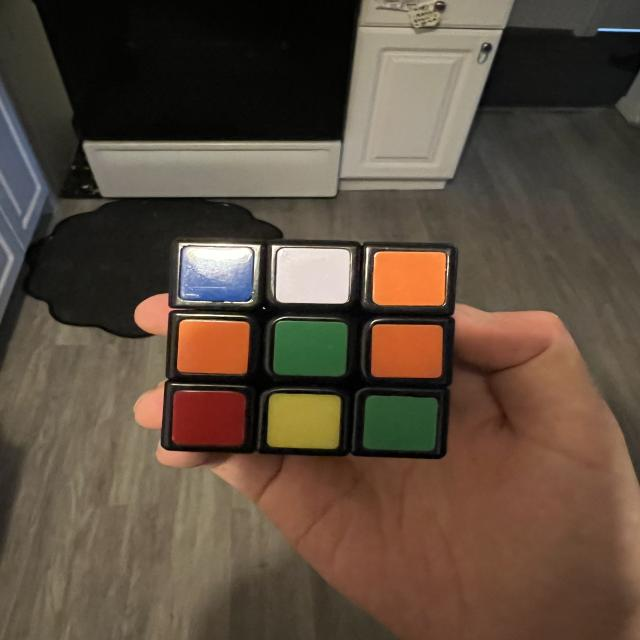blue: (178, 245, 254, 303)
center: (272, 319, 348, 378)
green: (361, 394, 438, 455), (272, 319, 348, 378)
orange: (371, 250, 448, 307), (177, 319, 251, 375), (370, 324, 443, 379)
red: (171, 389, 247, 448)
white: (270, 245, 354, 305)
yellow: (266, 392, 342, 451)
